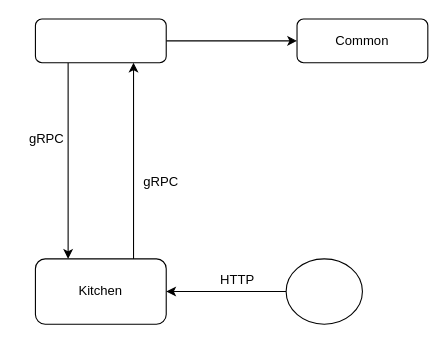
Image size: 447x343. Some labels were removed from this diagram. The shapes that lost their labels are listed below. From the top down, each one's centre as x and y in pixels, then its label:
(x=100, y=40): Orders
(x=323, y=291): User Request
